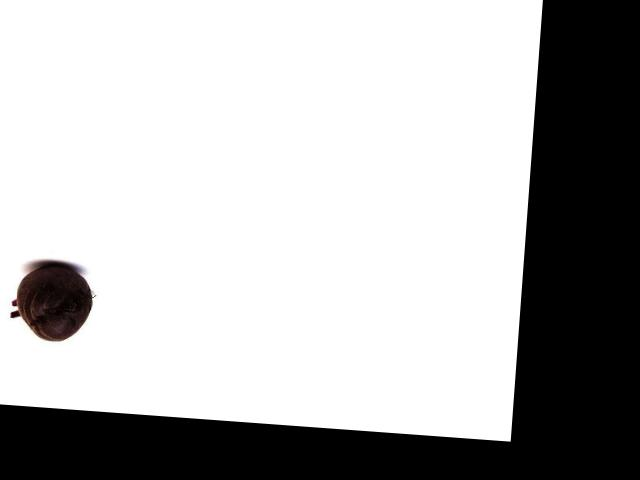beet: (10, 260, 95, 344)
